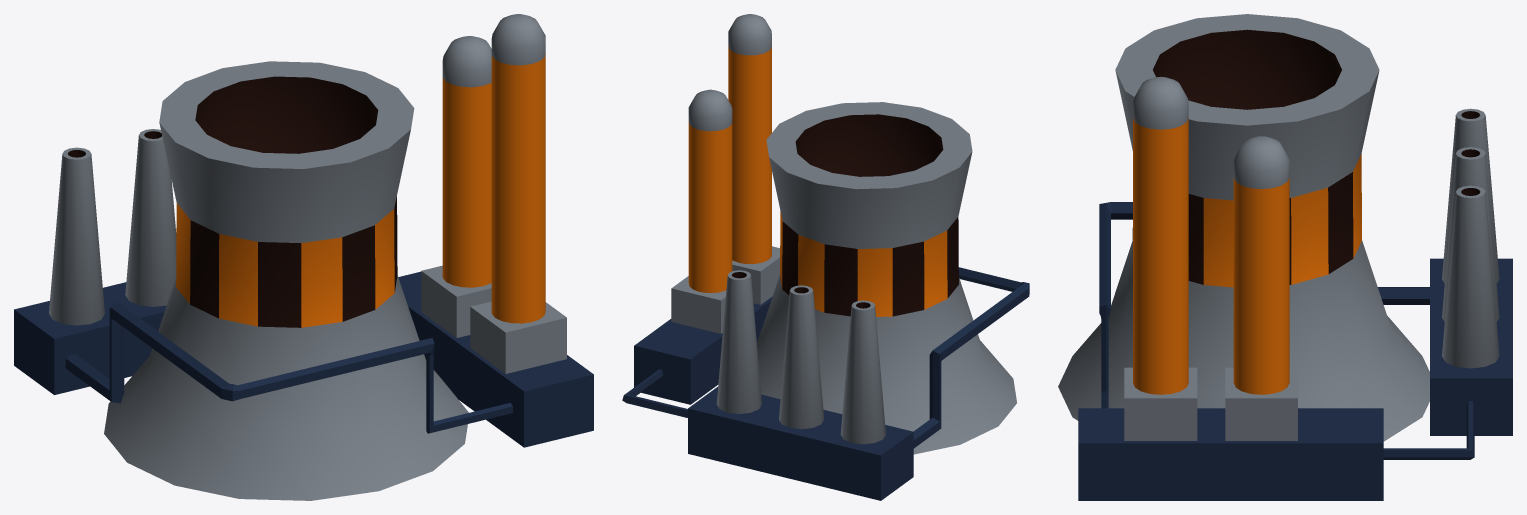
File: 2025-11-25-Boswell-CoalPlant-v004.fbx
3 renders of one model, left to right at view 1: azimuth 30°, elevation 25°; view 2: azimuth 150°, elevation 25°; view 3: azimuth 270°, elevation 25°, orthographic. The views are drawn at different scales.
Parts seen in each view (by area): view 1: Cylinder, Cube.001, Cube.002, Cube.004, Elbow Joint.001, Cube.003, Cylinder.001, Cylinder.002; view 2: Cylinder, Cube.003, Cube.001, Cube.002, Cube.004, Cylinder.003, Cylinder.001, Cylinder.002, Elbow Joint.001, Elbow Joint; view 3: Cylinder, Cube.004, Cube.001, Cube.002, Cube.003, Cylinder.003, Elbow Joint.001, Cylinder.002, Cylinder.001, Elbow Joint.
Part boxes in pixels (x1=…): Cylinder: x1=104, y1=61, x2=468, y2=500; Cube.001: x1=470, y1=14, x2=566, y2=373; Cube.002: x1=421, y1=36, x2=491, y2=337; Cube.004: x1=398, y1=271, x2=593, y2=447; Elbow Joint.001: x1=65, y1=302, x2=512, y2=433; Cube.003: x1=14, y1=282, x2=166, y2=394; Cylinder.001: x1=49, y1=147, x2=104, y2=325; Cylinder.002: x1=125, y1=129, x2=176, y2=306; Cylinder: x1=757, y1=102, x2=1016, y2=454; Cube.003: x1=688, y1=386, x2=913, y2=500; Cube.001: x1=728, y1=14, x2=779, y2=304; Cube.002: x1=671, y1=89, x2=732, y2=333; Cube.004: x1=634, y1=296, x2=772, y2=404; Cylinder.003: x1=716, y1=270, x2=761, y2=413; Cylinder.001: x1=840, y1=300, x2=885, y2=444; Cylinder.002: x1=779, y1=285, x2=824, y2=429; Elbow Joint.001: x1=913, y1=267, x2=1029, y2=448; Elbow Joint: x1=622, y1=369, x2=687, y2=417; Cylinder: x1=1058, y1=14, x2=1429, y2=441; Cube.004: x1=1078, y1=408, x2=1383, y2=500; Cube.001: x1=1124, y1=76, x2=1197, y2=440; Cube.002: x1=1225, y1=136, x2=1297, y2=440; Cube.003: x1=1430, y1=258, x2=1512, y2=435; Cylinder.003: x1=1442, y1=185, x2=1499, y2=368; Elbow Joint.001: x1=1099, y1=202, x2=1429, y2=408; Cylinder.002: x1=1442, y1=147, x2=1499, y2=321; Cylinder.001: x1=1442, y1=108, x2=1499, y2=283; Elbow Joint: x1=1383, y1=401, x2=1474, y2=459.
Size of the model in its own units: 559 by 545 by 557.
